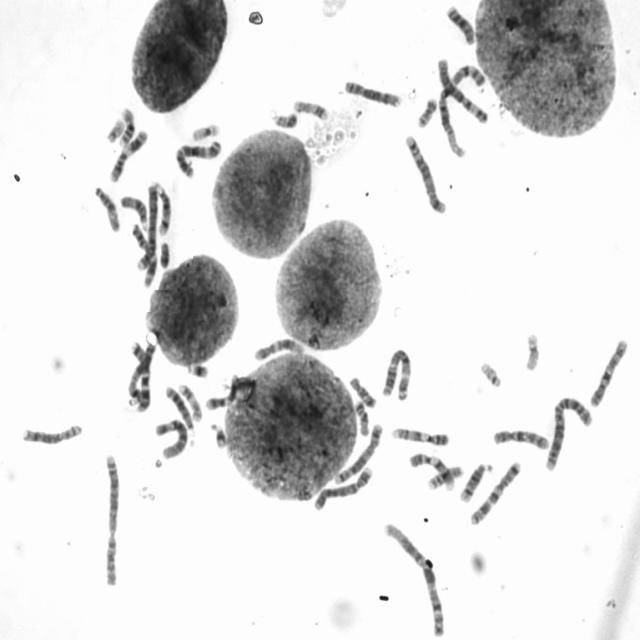A1: (379, 517, 448, 639), (433, 56, 488, 159)
A2: (540, 390, 595, 473), (100, 446, 122, 588)
A3: (172, 134, 224, 179), (378, 342, 414, 401)
B4: (310, 461, 374, 512), (134, 178, 160, 275)
B5: (401, 129, 448, 215), (330, 418, 384, 486)
C10: (586, 333, 630, 408), (489, 423, 551, 451)
C11: (104, 124, 150, 183), (127, 218, 159, 289)
C12: (250, 332, 306, 362), (201, 369, 241, 411)
C6: (434, 52, 489, 125), (151, 414, 190, 460)
C7: (466, 455, 523, 525), (125, 336, 156, 411)
C8: (339, 74, 404, 109), (17, 418, 84, 446)
C9: (404, 446, 458, 492), (388, 422, 452, 448)
D13: (161, 380, 196, 433), (443, 0, 477, 46)
D14: (456, 457, 495, 504), (151, 177, 173, 237)
D15: (90, 180, 122, 233), (117, 190, 149, 228)
E16: (424, 461, 464, 492), (115, 102, 137, 147)
E17: (175, 378, 204, 422), (289, 94, 330, 121)
E18: (346, 371, 378, 409), (352, 394, 372, 436)
F19: (520, 328, 542, 372), (188, 118, 222, 141)
F20: (413, 92, 438, 129), (269, 106, 300, 129)
G21: (206, 417, 228, 449), (184, 357, 210, 379)
G22: (476, 355, 504, 389), (102, 113, 125, 144)
Y: (156, 237, 172, 269)
